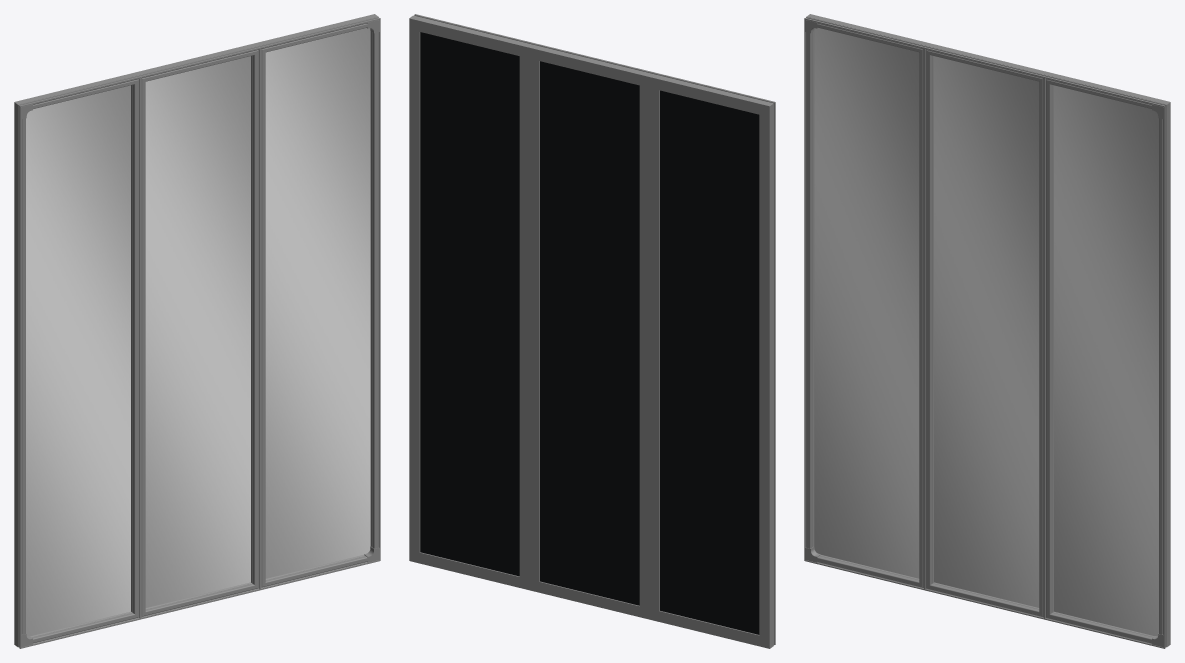
3 views of the same model, side by side, from view 1: azimuth 30°, elevation 25°; view 2: azimuth 150°, elevation 25°; view 3: azimuth 330°, elevation 25° (orthographic).
Parts seen in each view (by area): view 1: Plane006, Plane005, Plane007, Rectangle001, Rectangle004; view 2: Plane002, Plane003, Plane004, Rectangle001; view 3: Plane006, Plane007, Plane005, Rectangle001, Rectangle004.
Part boxes in pixels (x1,y1,x2,y2): Plane006: [145, 56, 250, 607]; Plane005: [265, 28, 370, 578]; Plane007: [26, 85, 130, 636]; Rectangle001: [14, 14, 380, 648]; Rectangle004: [21, 20, 379, 647]; Plane002: [420, 32, 519, 576]; Plane003: [540, 61, 639, 605]; Plane004: [660, 90, 759, 634]; Rectangle001: [409, 14, 775, 648]; Plane006: [934, 56, 1039, 607]; Plane007: [814, 28, 919, 578]; Plane005: [1054, 85, 1158, 636]; Rectangle001: [804, 14, 1170, 648]; Rectangle004: [805, 20, 1163, 647].
Bounding box in the file's own units: 1043 × 1500 × 30.
4 materials, 2 textured.
